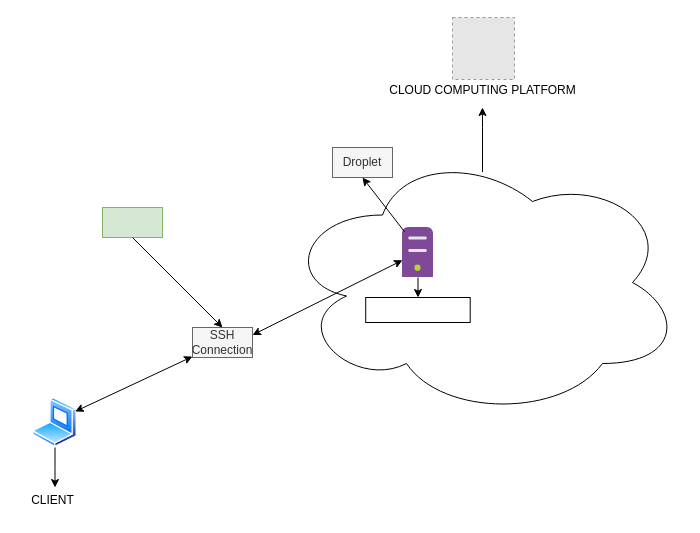
The diagram is 700 pixels wide and 533 high, and some of its shapes have lost their labels. Grey dashed boxes stand in for pictures. The shapes that lost their labels are listed below. From the top down, each one's box as (x1, y1, x2, y2) in pixels, then its label:
(102, 206, 162, 238): OpenSSL
(365, 296, 470, 322): Virtual Machine
